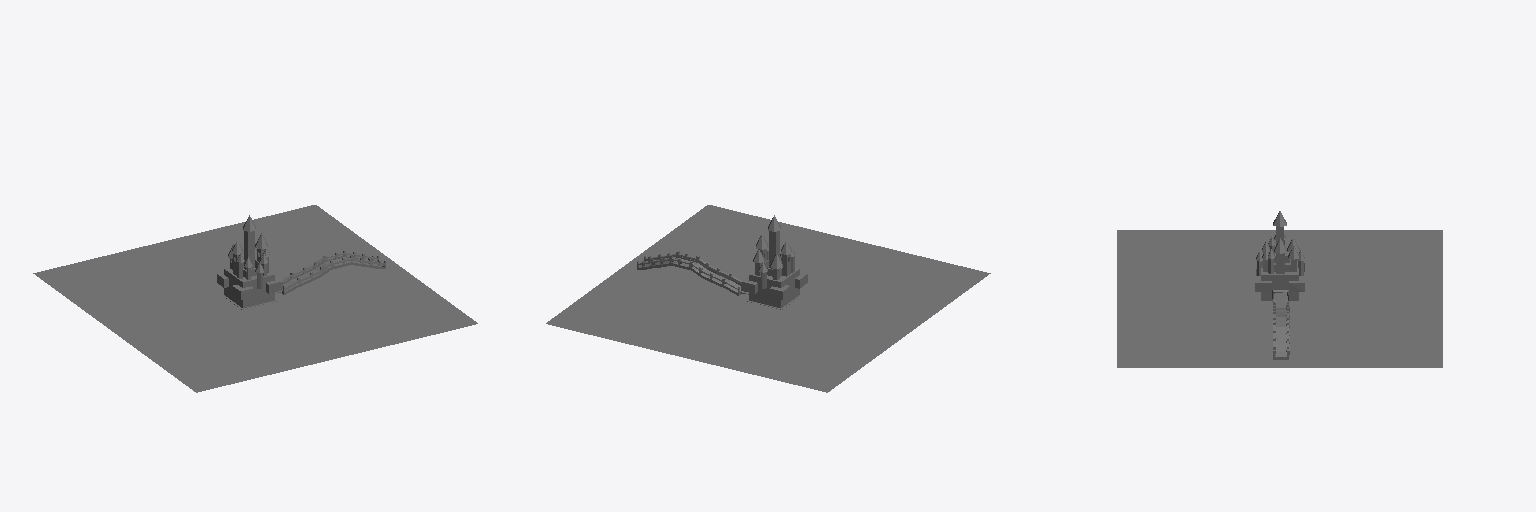
File: castillo1.obj
3 views of the same model, side by side, from view 1: azimuth 30°, elevation 25°; view 2: azimuth 150°, elevation 25°; view 3: azimuth 270°, elevation 25° (orthographic).
Parts seen in each view (by area): view 1: tierra, pCube1 castillo, puente; view 2: tierra, pCube1 castillo, puente; view 3: tierra, pCube1 castillo, puente.
Boxes of the visible parts, x1=… form: tierra: x1=33, y1=205, x2=477, y2=392; pCube1 castillo: x1=217, y1=249, x2=282, y2=309; puente: x1=275, y1=251, x2=385, y2=294; tierra: x1=546, y1=205, x2=990, y2=392; pCube1 castillo: x1=741, y1=249, x2=807, y2=309; puente: x1=637, y1=251, x2=748, y2=295; tierra: x1=1117, y1=230, x2=1442, y2=367; pCube1 castillo: x1=1255, y1=240, x2=1304, y2=302; puente: x1=1273, y1=301, x2=1289, y2=359.
Bounding box in the file's own units: 1015 × 293 × 1015.